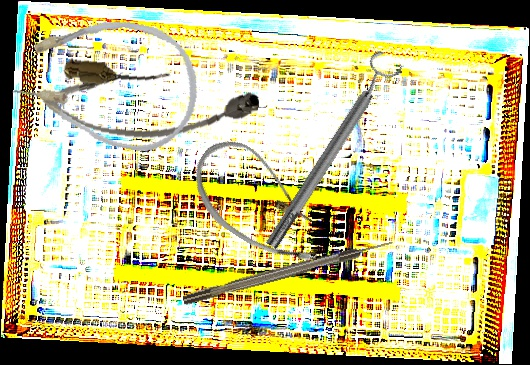Cannula: (5, 1, 209, 161), (176, 128, 347, 279), (50, 56, 262, 153)
Fixation Ring: (255, 48, 406, 255)
Hook Surgical: (181, 237, 395, 306)
